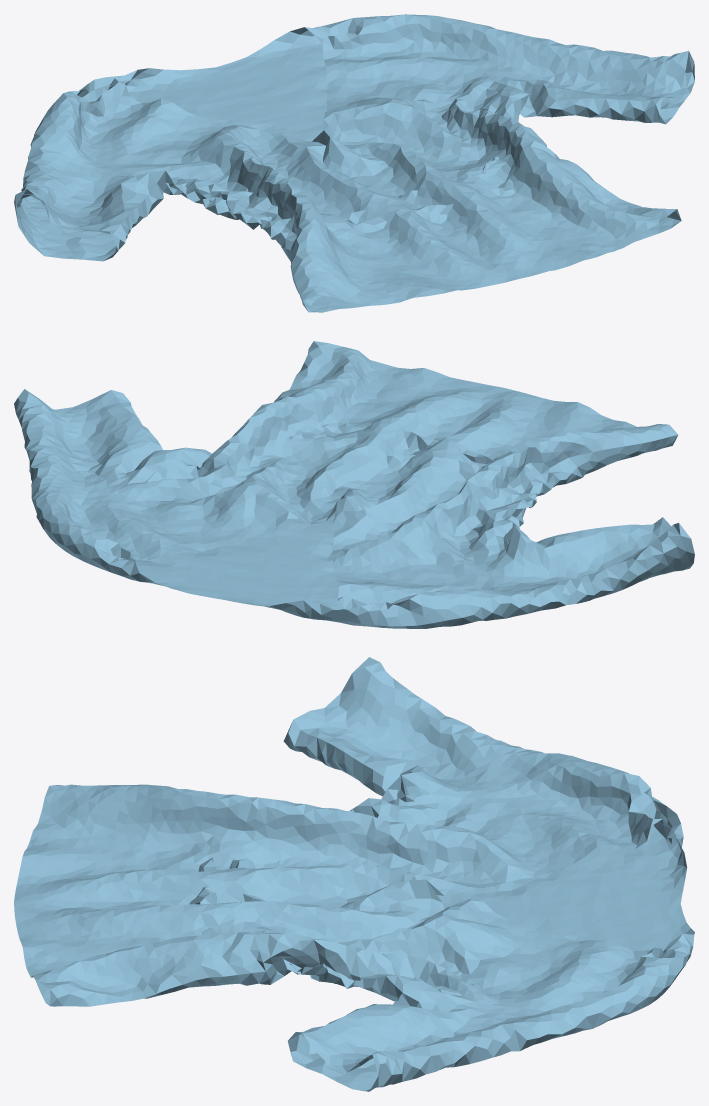
File: frame_02.glb
3 renders of one model, top to bottom at view 1: azimuth 30°, elevation 25°; view 2: azimuth 150°, elevation 25°; view 3: azimuth 270°, elevation 25°, orthographic. The views are drawn at different scales.
Visible parts, largest first — view 1: frame_02.obj; view 2: frame_02.obj; view 3: frame_02.obj.
Boxes of the visible parts, x1=… form: frame_02.obj: x1=14, y1=14, x2=694, y2=312; frame_02.obj: x1=14, y1=341, x2=694, y2=628; frame_02.obj: x1=14, y1=657, x2=694, y2=1091.
Bounding box in the file's own units: 1.96 × 0.1732 × 1.48.
